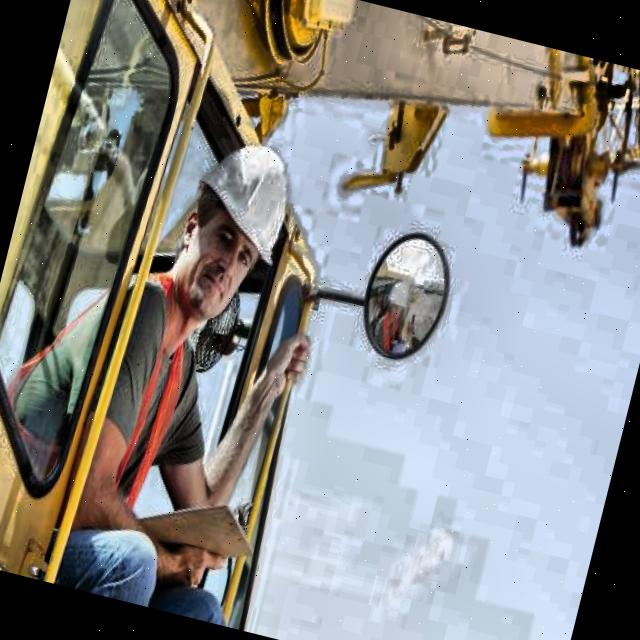helmet: (153, 104, 317, 341)
